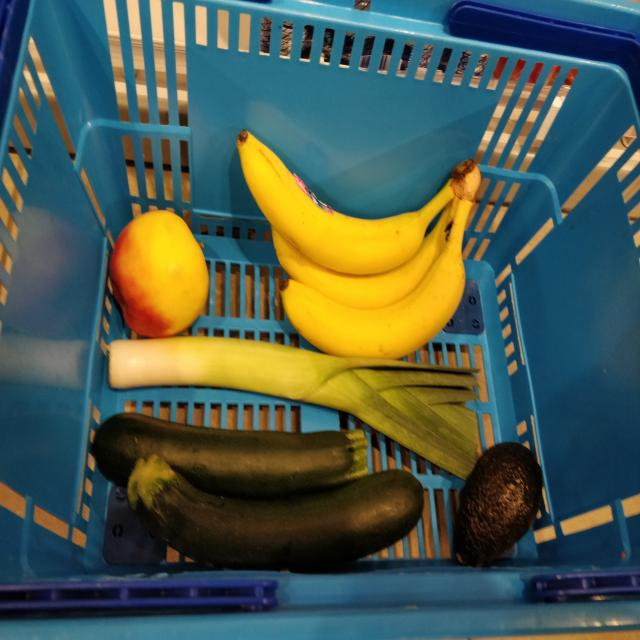apple: (107, 210, 210, 341)
avocado: (451, 443, 548, 570)
banana: (234, 132, 481, 359)
leek: (107, 337, 482, 479)
yogurt: (127, 460, 425, 575), (89, 413, 372, 499)
